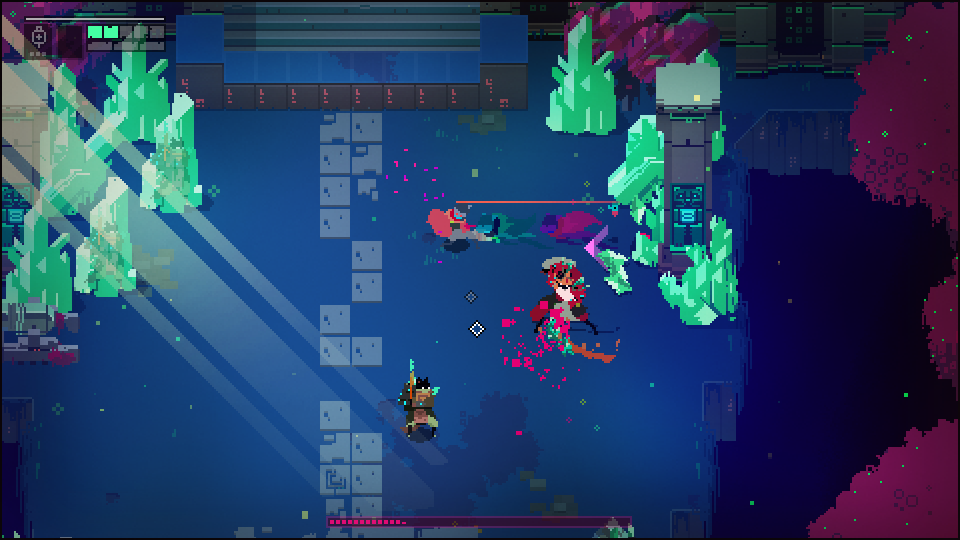hanged_man: (528, 253, 606, 363)
player: (425, 200, 486, 248)
